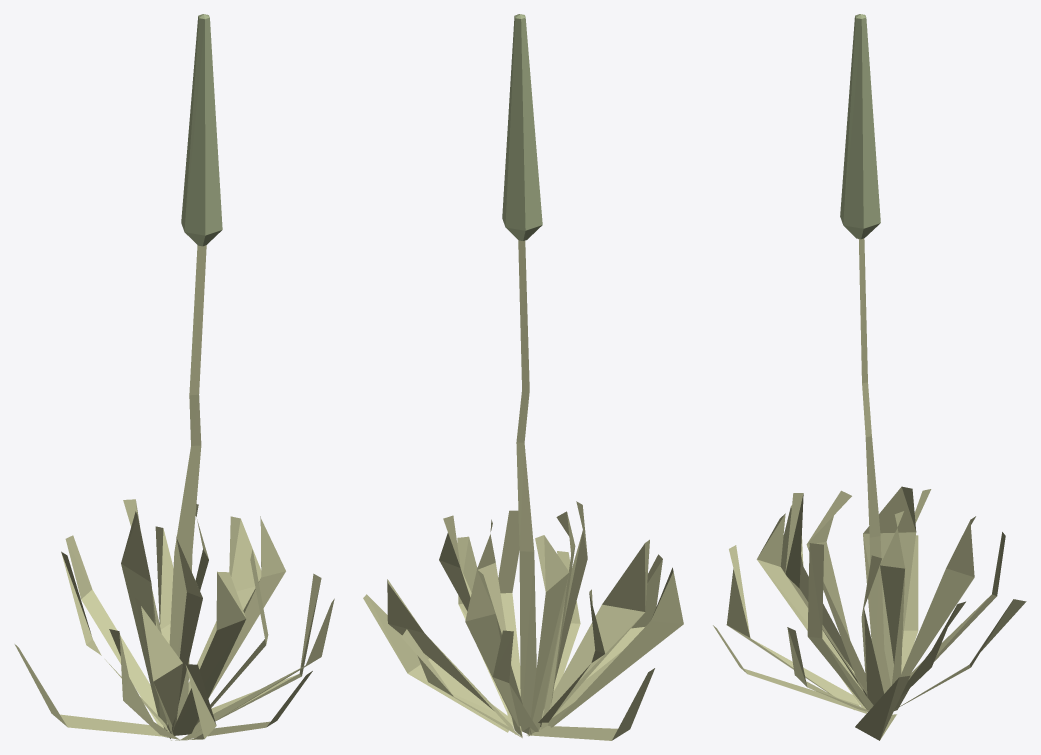
File: AgaveStricta.glb
3 renders of one model, left to right at view 1: azimuth 30°, elevation 25°; view 2: azimuth 150°, elevation 25°; view 3: azimuth 270°, elevation 25°, orthographic. The views are drawn at different scales.
Parts seen in each view (by area): view 1: Trunk, Crown; view 2: Trunk, Crown; view 3: Trunk, Crown.
Boxes of the visible parts, x1,y1,x2,y2 form: Trunk: [14, 245, 334, 740]; Crown: [181, 14, 222, 246]; Trunk: [363, 240, 683, 740]; Crown: [502, 14, 542, 240]; Trunk: [713, 238, 1026, 740]; Crown: [840, 14, 880, 239].
Size of the model in its own units: 0.9232 by 2.12 by 0.8601.
